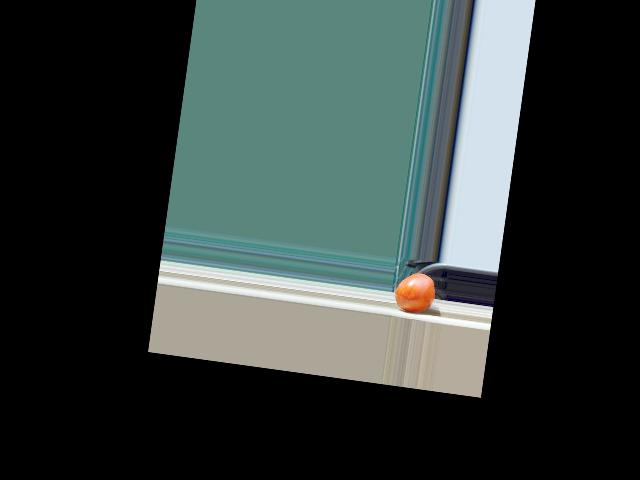tomato: (393, 270, 437, 314)
